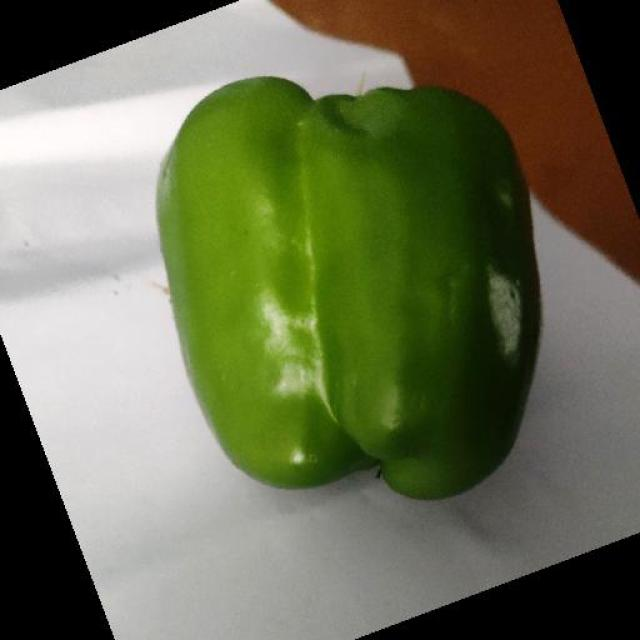Stale_Capsicum: (415, 156, 534, 432)
